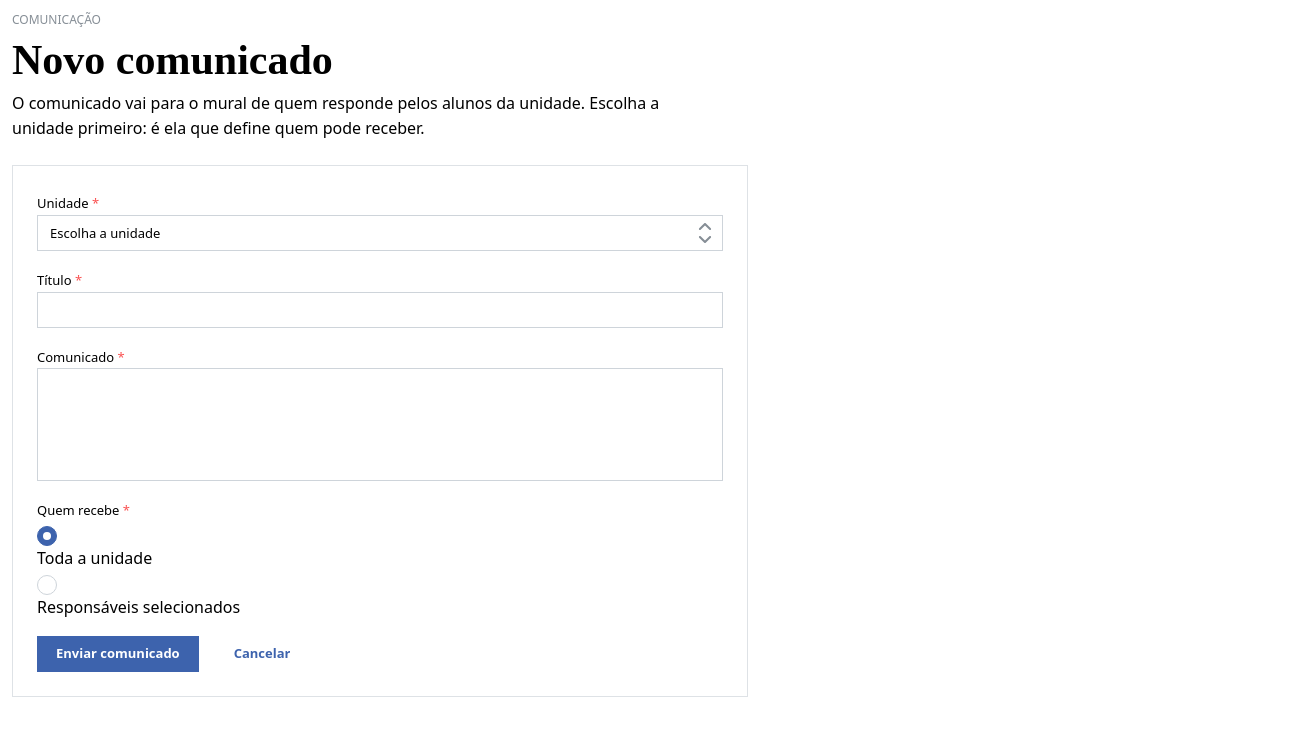
Test: AnnouncementForm › the whole-school audience sends recipients as an empty array, and not as a missing key
Select "Escola Central" in the dropdown labelled "Unidade" at [380, 233], box [37,215,723,251]
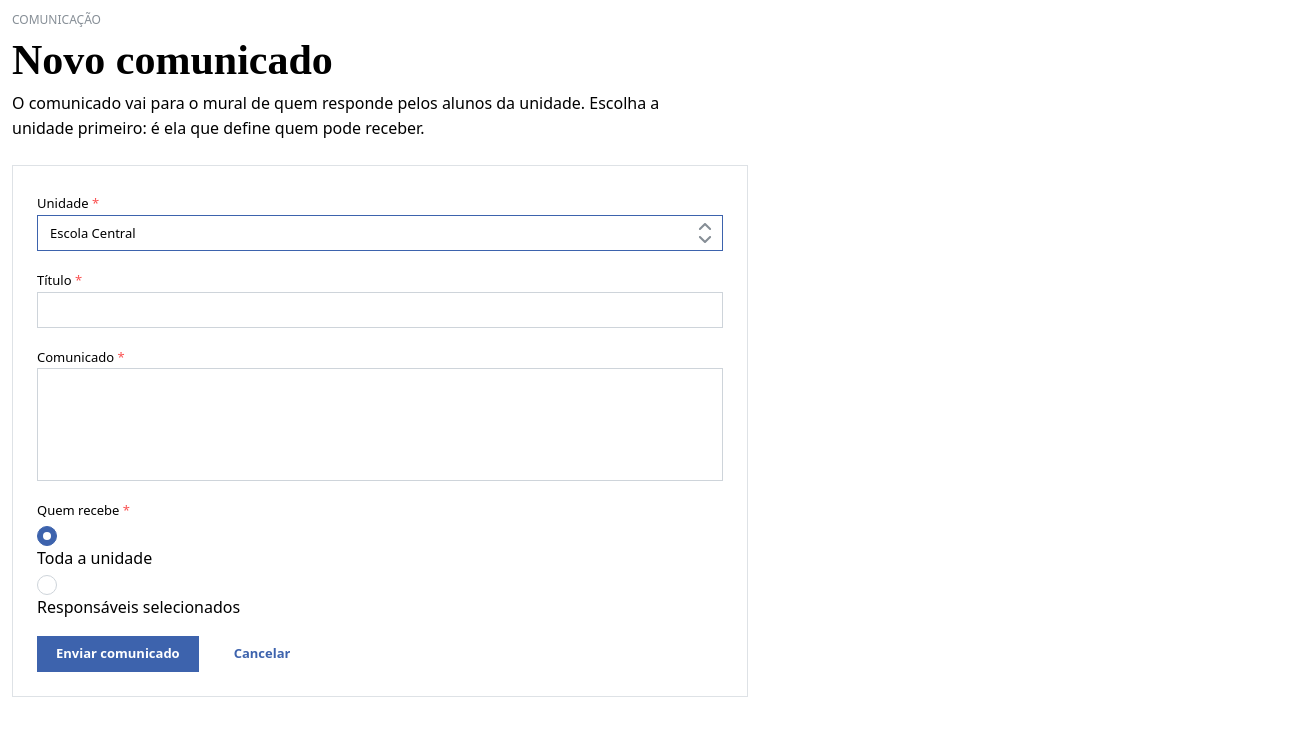
Type "Reunião de pais" into the field labelled "Título" at [380, 310], box [37,292,723,328]
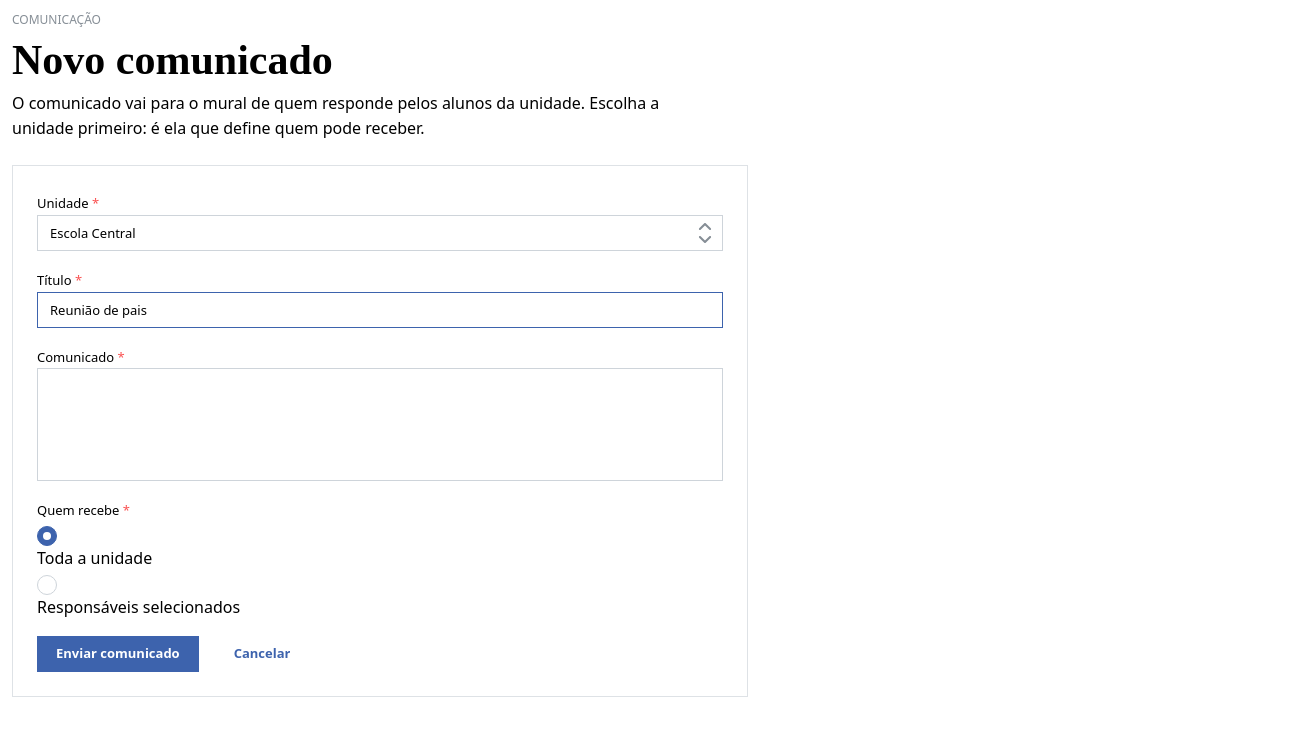
Type "Na quinta-feira." into the text box labelled "Comunicado" at [380, 425], box [37,368,723,481]
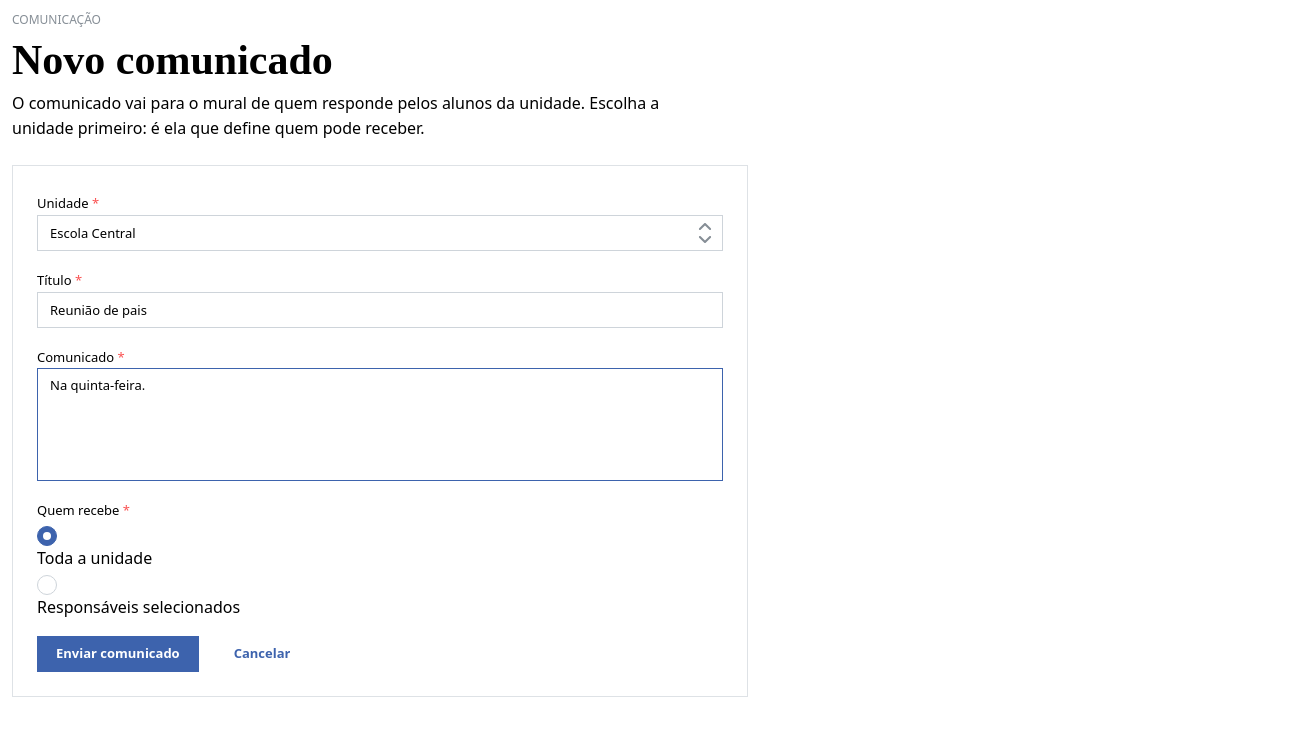
Click the button "Enviar comunicado" at [118, 654], box [37,636,199,672]
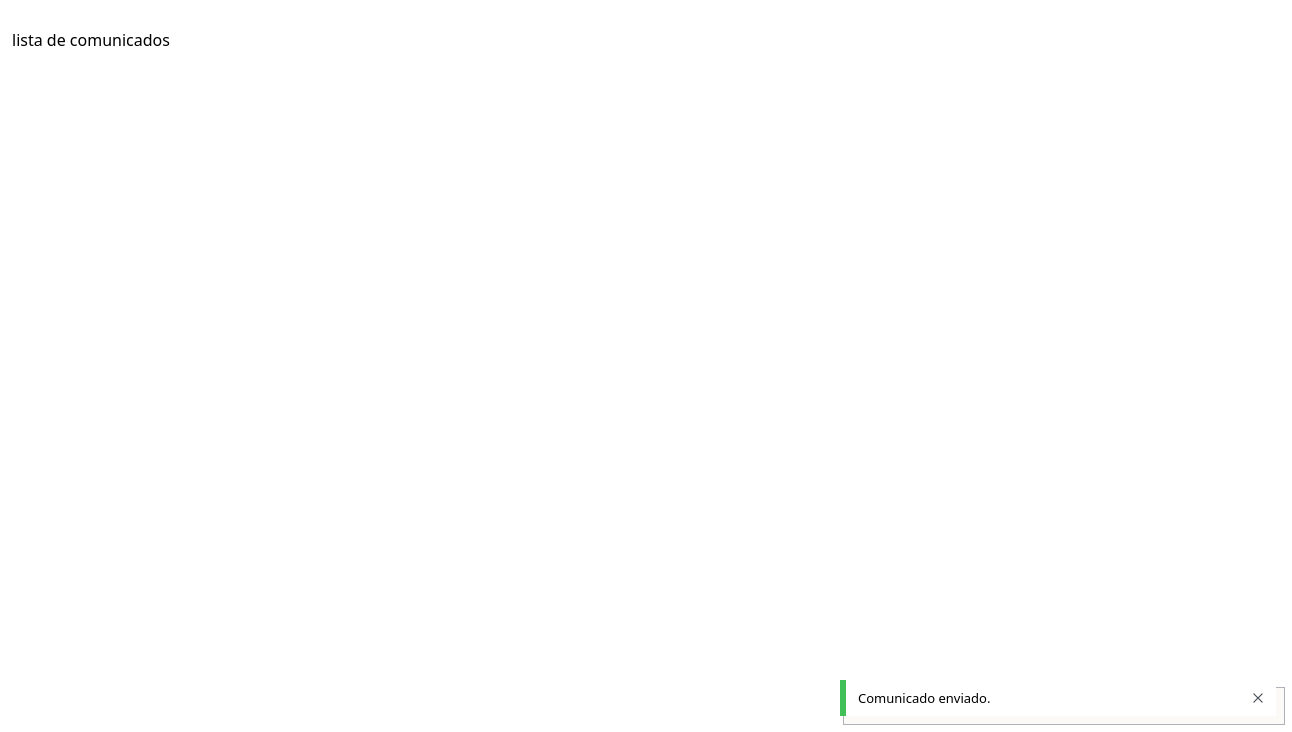
Check: the text "lista de comunicados" is shown, box [12,29,170,51]
